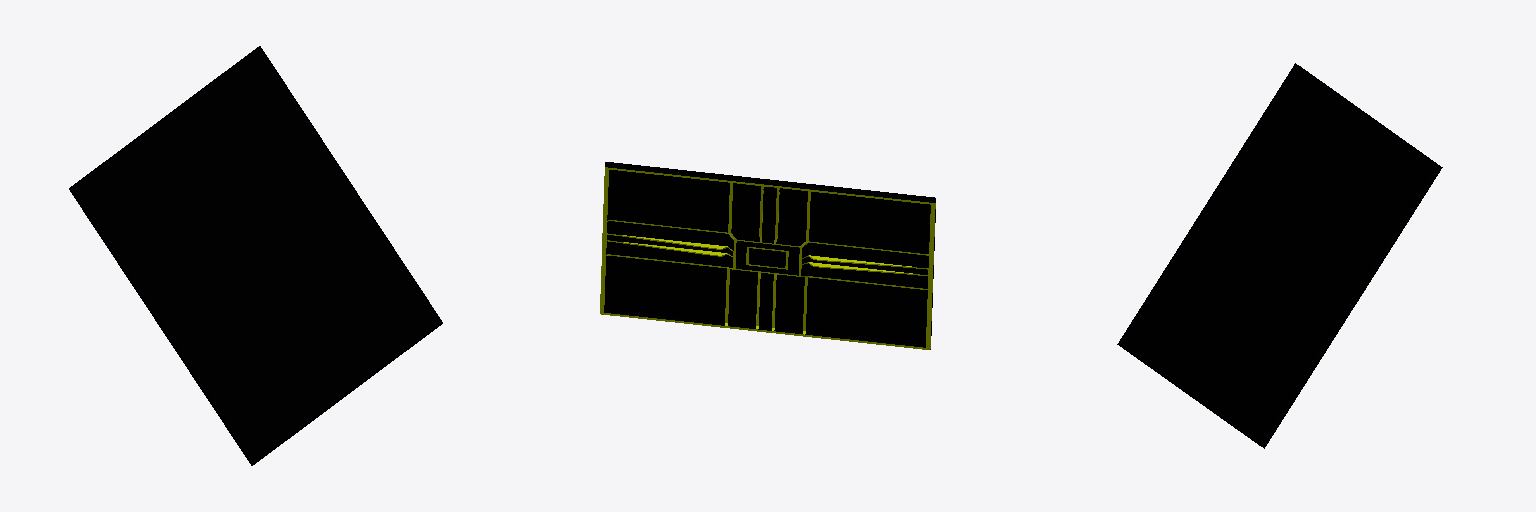
Rendered from deathStar1.obj.
The picture shows the model from 3 angles: view 1: azimuth 30°, elevation 25°; view 2: azimuth 150°, elevation 25°; view 3: azimuth 270°, elevation 25°; orthographic projection.
Parts seen in each view (by area): view 1: Box001_Untitled; view 2: Box001_Untitled; view 3: Box001_Untitled.
Part boxes in pixels (x1,y1,x2,y2): Box001_Untitled: (69,46,442,465); Box001_Untitled: (600,162,935,349); Box001_Untitled: (1117,63,1442,448).
Bounding box in the file's own units: 6.31 × 4.48 × 5.